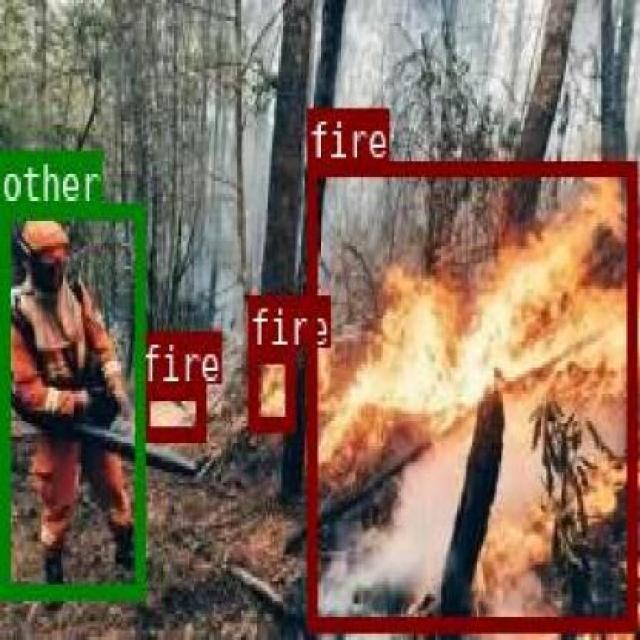Fire: (307, 160, 635, 628), (137, 381, 205, 437), (246, 346, 292, 428)
